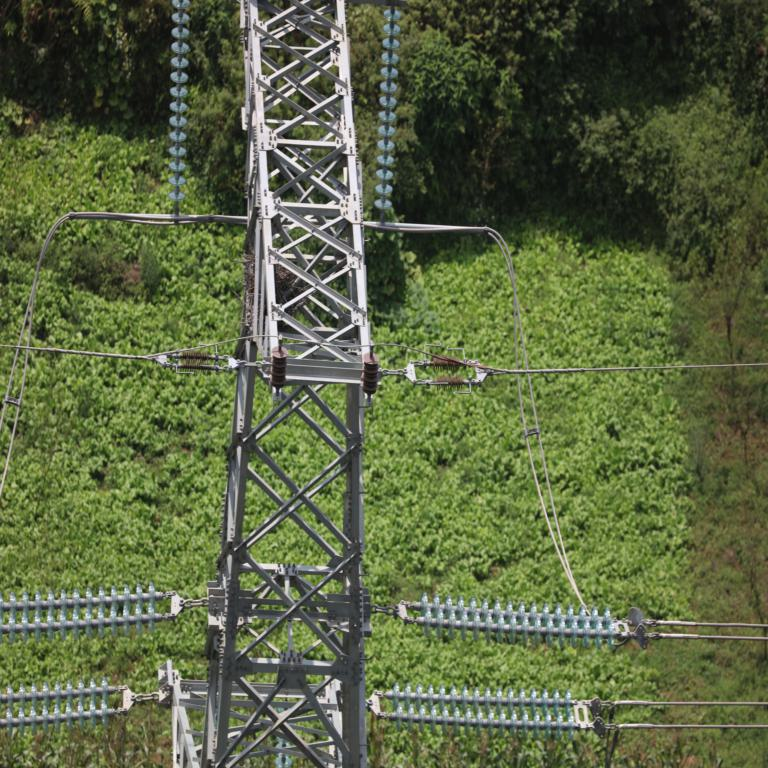nest: (241, 250, 292, 306)
